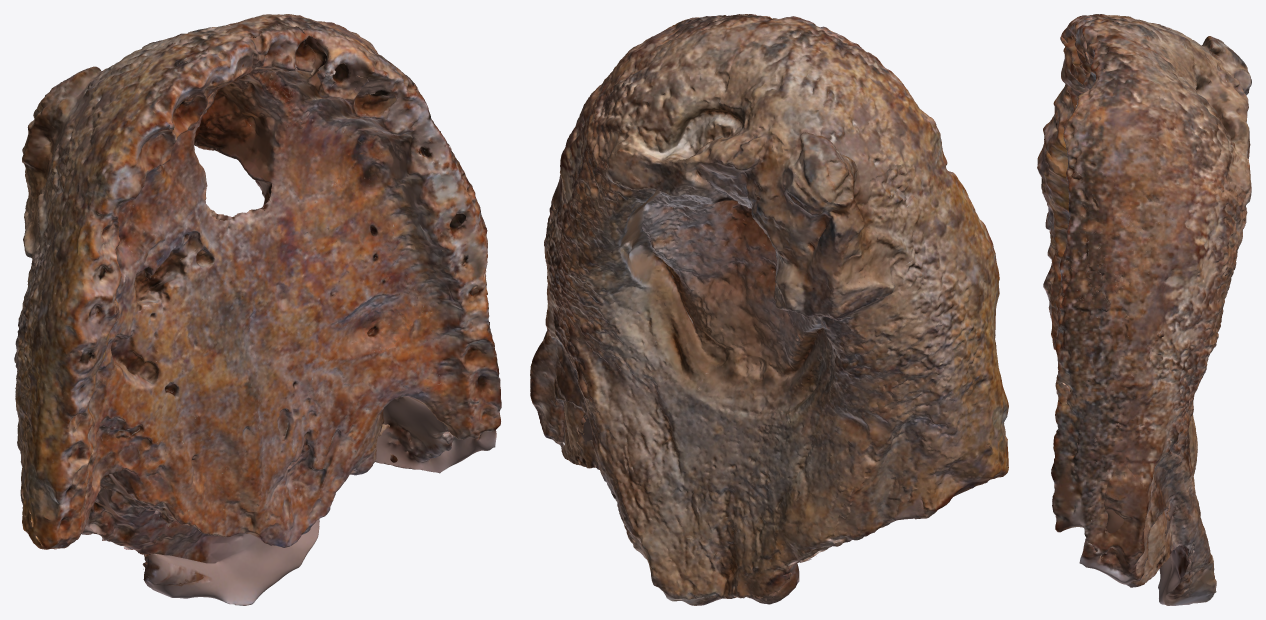
File: purussaurus_de_ucayali_mru_17.glb
The picture shows the model from 3 angles, left to right: view 1: azimuth 30°, elevation 25°; view 2: azimuth 150°, elevation 25°; view 3: azimuth 270°, elevation 25°; orthographic projection. The views are drawn at different scales.
Parts seen in each view (by area): view 1: Object_3, Object_6, Object_5, Object_2, Object_7, Object_4, Object_8; view 2: Object_4, Object_5, Object_7, Object_6, Object_3, Object_2; view 3: Object_3, Object_4, Object_6, Object_2, Object_5, Object_7.
Part boxes in pixels (x1,y1,x2,y2): Object_3: (86, 28, 501, 605); Object_6: (18, 17, 500, 604); Object_5: (61, 31, 445, 544); Object_2: (18, 16, 501, 605); Object_7: (14, 28, 500, 605); Object_4: (71, 14, 422, 436); Object_8: (145, 30, 495, 564); Object_4: (530, 14, 935, 597); Object_5: (550, 21, 909, 597); Object_7: (536, 16, 1008, 604); Object_6: (577, 34, 946, 605); Object_3: (530, 15, 743, 597); Object_2: (542, 15, 1005, 601); Object_3: (1052, 70, 1249, 604); Object_4: (1061, 14, 1249, 605); Object_6: (1037, 17, 1251, 595); Object_2: (1041, 14, 1243, 601); Object_5: (1075, 14, 1251, 561); Object_7: (1043, 19, 1251, 605).
Size of the model in its own units: 0.773 by 0.9444 by 0.3317.
1 material, 1 textured.
